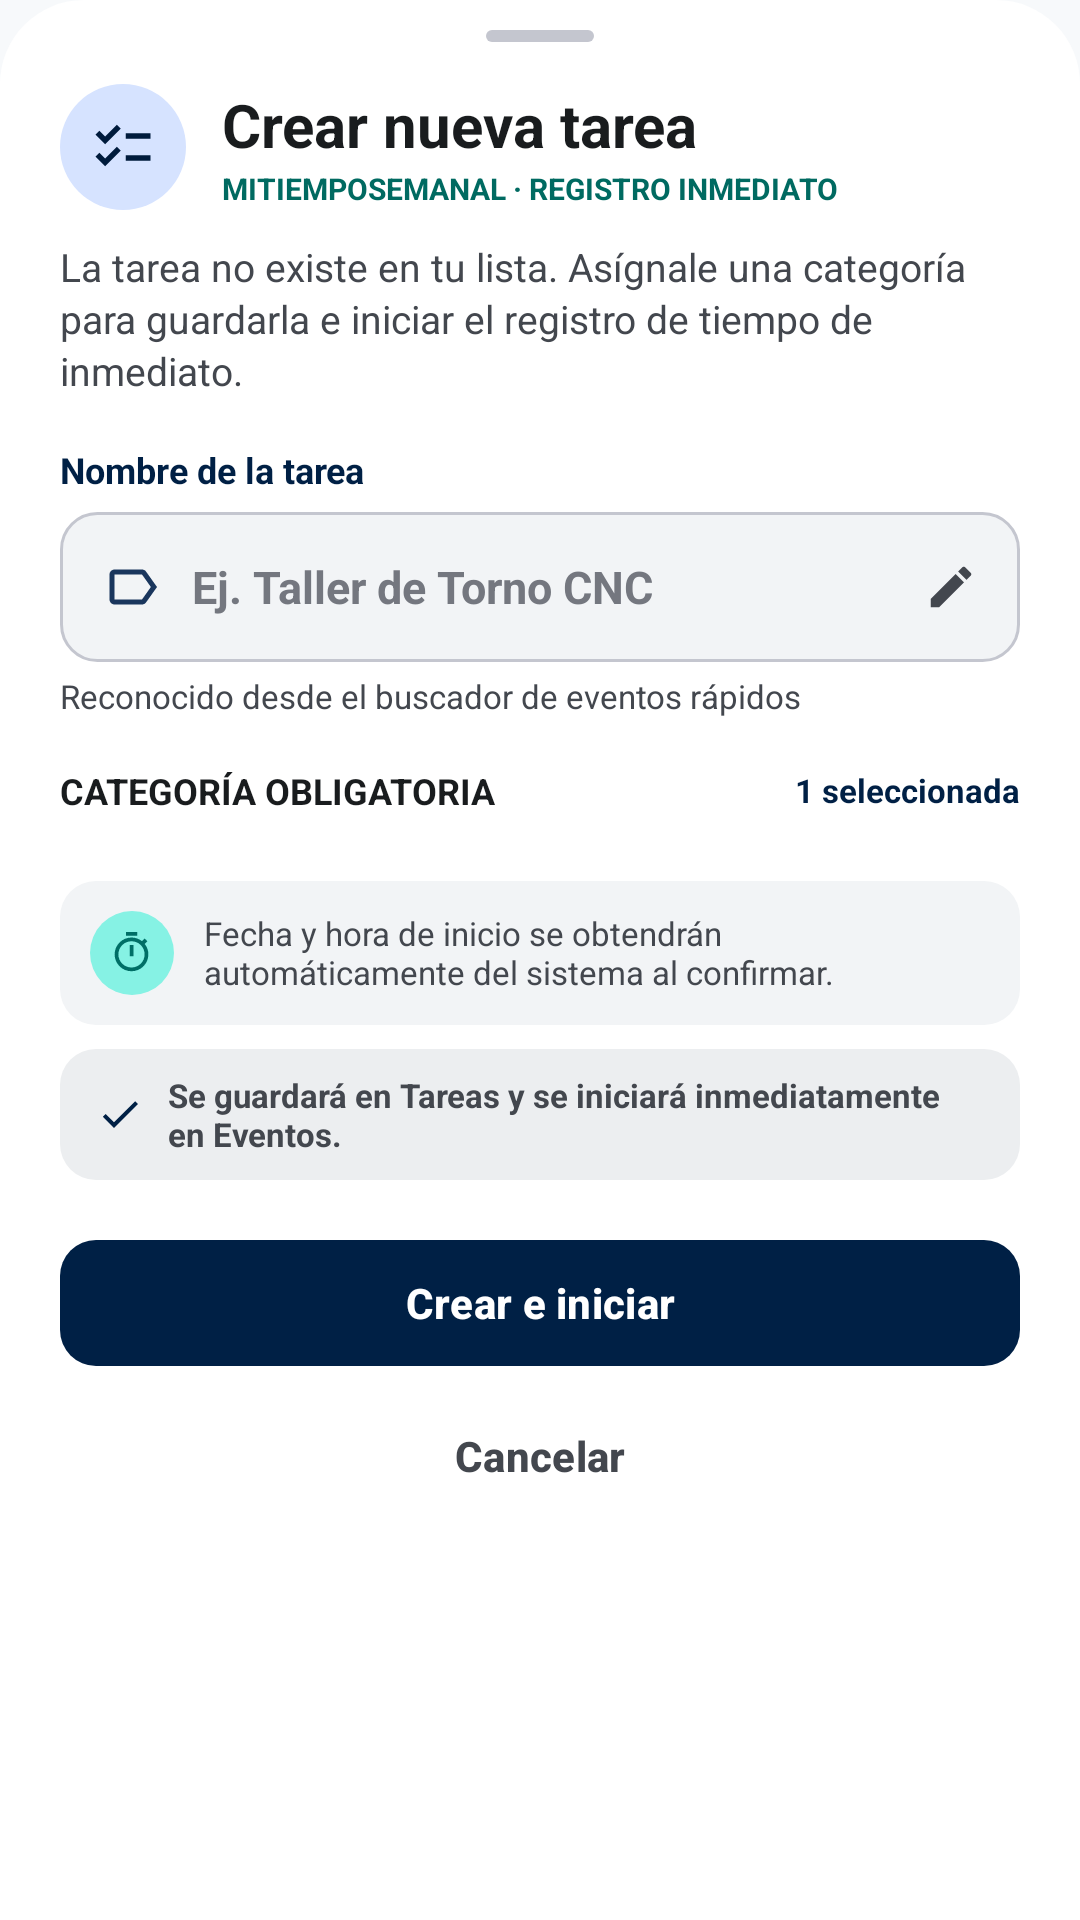

Icons on this 1080×1920 Android screen, each with its box as (x1=x1, y1=y1, x2=x2, y2=y2):
check: (x1=103, y1=1101, x2=138, y2=1128)
checklist: (x1=95, y1=125, x2=151, y2=166)
edit: (x1=930, y1=566, x2=972, y2=608)
label: (x1=109, y1=569, x2=157, y2=605)
timer: (x1=114, y1=932, x2=149, y2=972)
